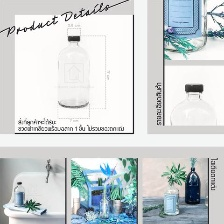bottle: (52, 33, 92, 110), (162, 0, 212, 54), (168, 80, 220, 129), (183, 166, 204, 206), (160, 181, 181, 218), (12, 180, 28, 207), (97, 192, 111, 218)
